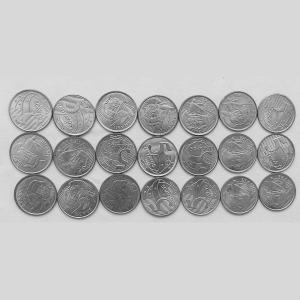5 cent: (7, 87, 53, 134), (134, 91, 181, 134), (12, 173, 57, 216), (138, 135, 181, 179), (94, 87, 139, 129), (7, 132, 53, 172), (56, 178, 99, 220), (257, 172, 298, 216), (52, 90, 92, 135), (216, 91, 258, 132), (177, 136, 217, 179), (180, 174, 220, 217), (140, 177, 180, 220), (57, 136, 96, 179), (220, 173, 259, 216), (178, 93, 217, 136), (255, 93, 296, 133), (97, 135, 136, 175), (99, 176, 137, 216), (257, 132, 295, 171), (219, 133, 256, 172)
